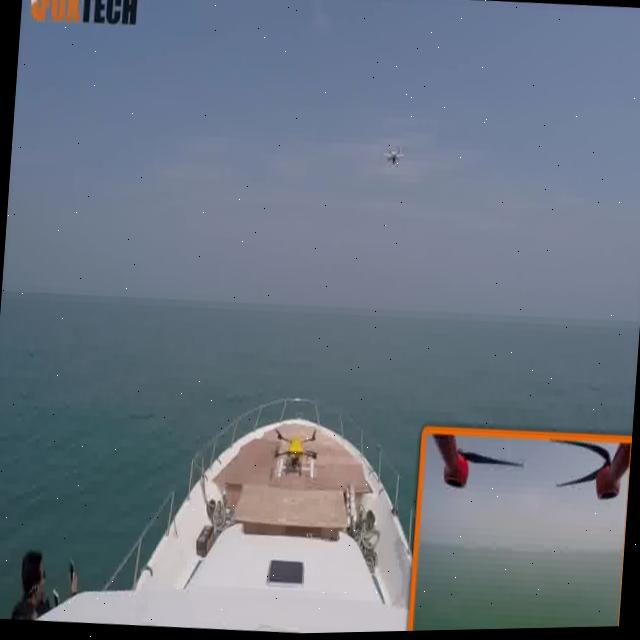drone: (261, 404, 337, 487), (373, 137, 407, 173)
